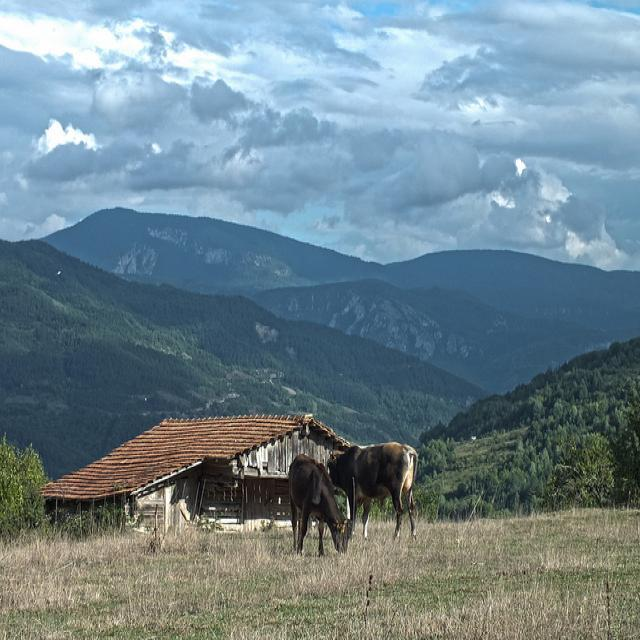cow: (325, 439, 418, 543), (286, 451, 348, 554)
